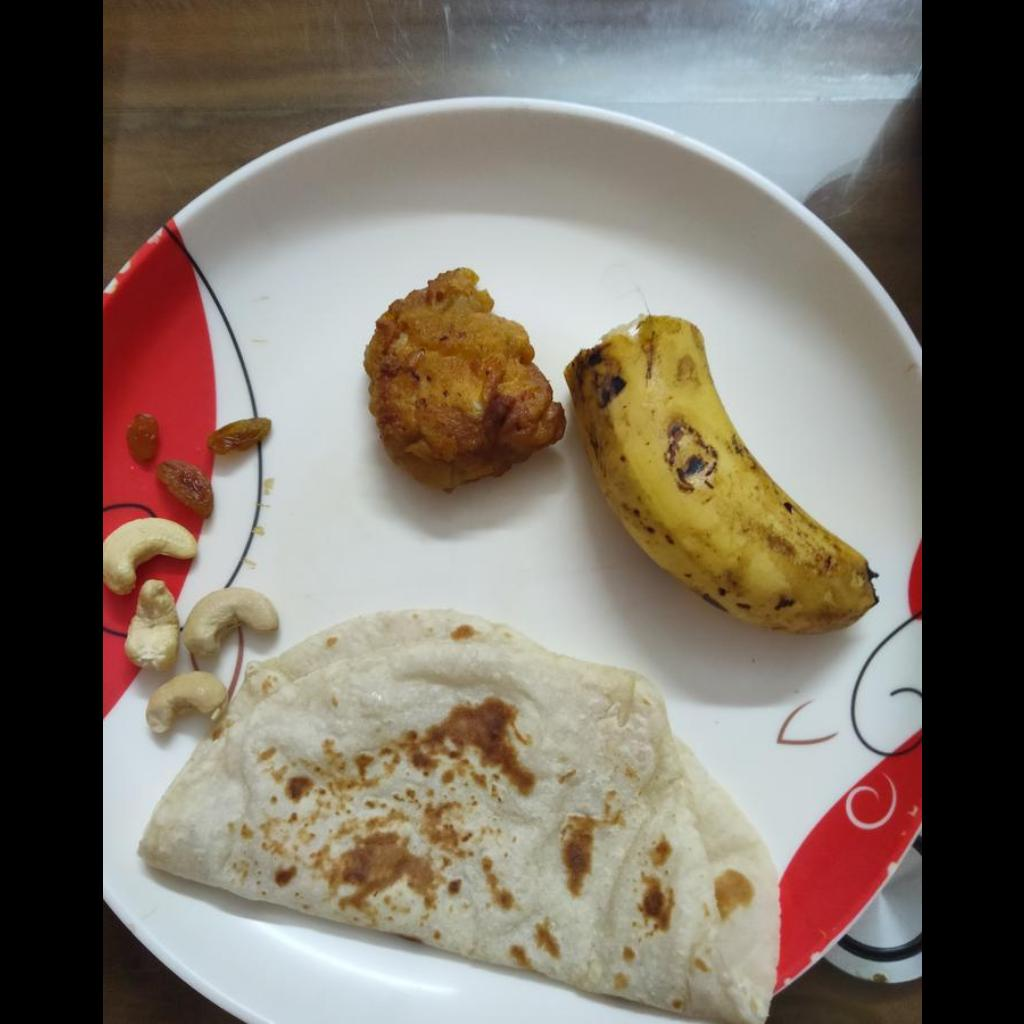badam: (104, 510, 272, 736)
banana: (563, 313, 880, 640)
piyaju: (365, 270, 564, 485)
ruti: (138, 609, 785, 1022)
